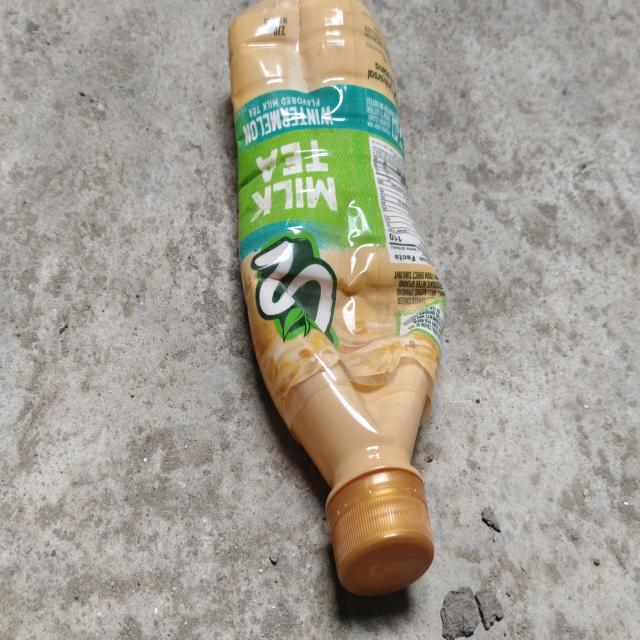Bottle: (229, 0, 445, 595)
